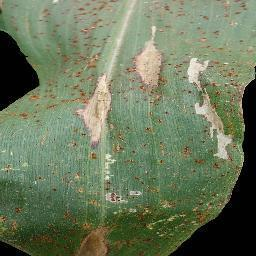Corn_Common_Rust: (0, 0, 170, 256), (170, 0, 256, 256)
